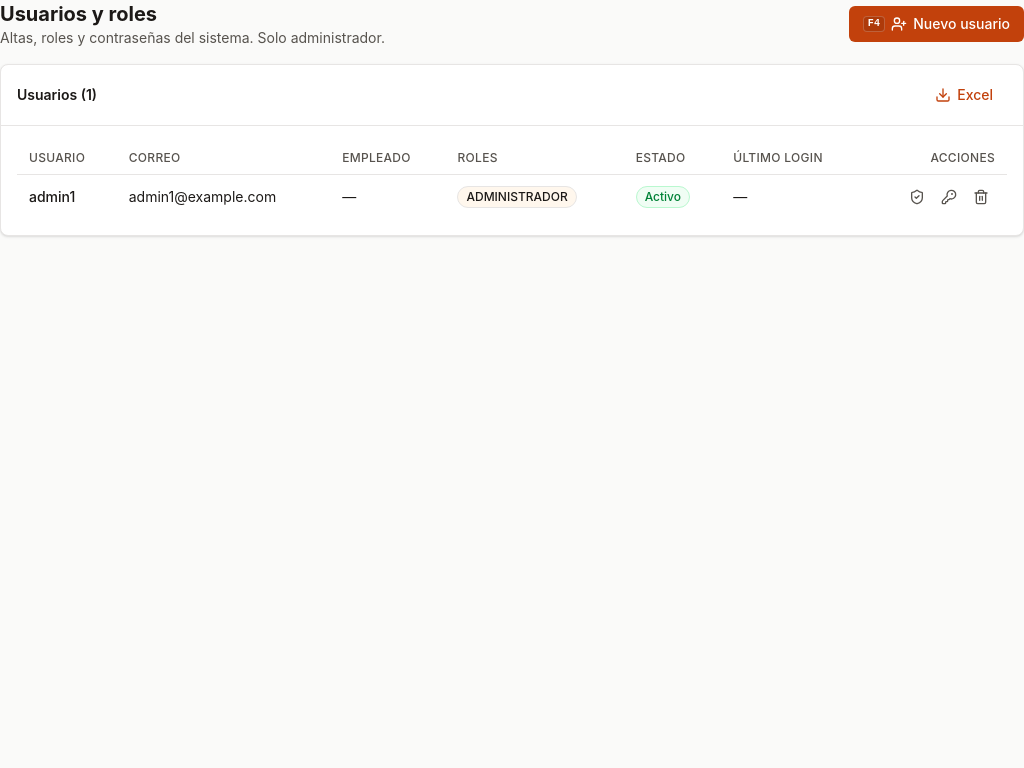
Test case: UsuariosPage (profundización) › valida el mínimo de 8 caracteres al restablecer
expect the text "admin1" is shown: met, box [29,188,75,205]
Step 1. Click the button named "Restablecer contraseña de admin1" → (949, 197), box [935,183,963,211]
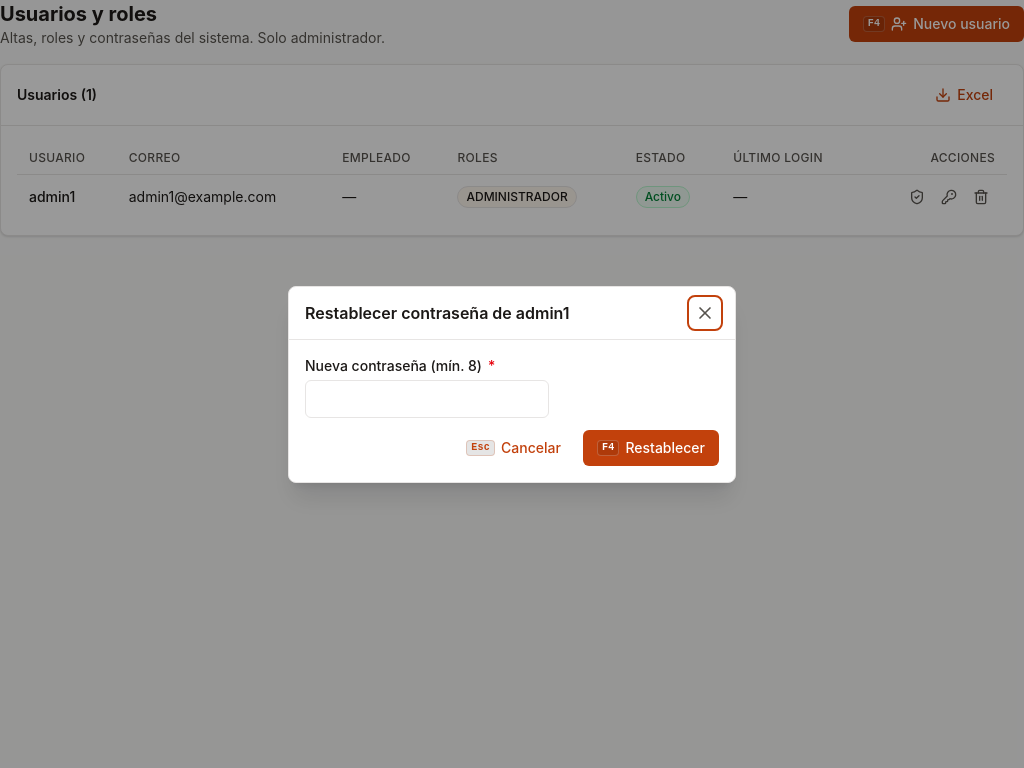
Step 2. Type "corta" into the password field labelled "Nueva contraseña (mín. 8) *" → (427, 398), box [305,380,549,418]
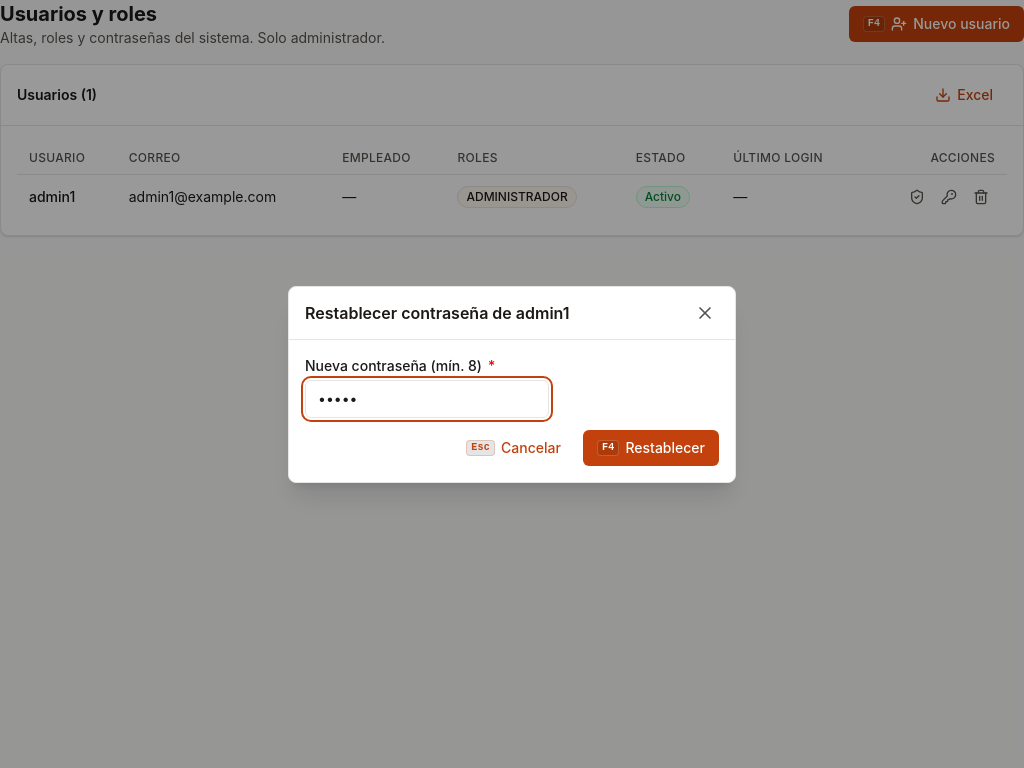
Step 3. Click the button "F4 Restablecer" → (651, 448), box [583,430,719,466]
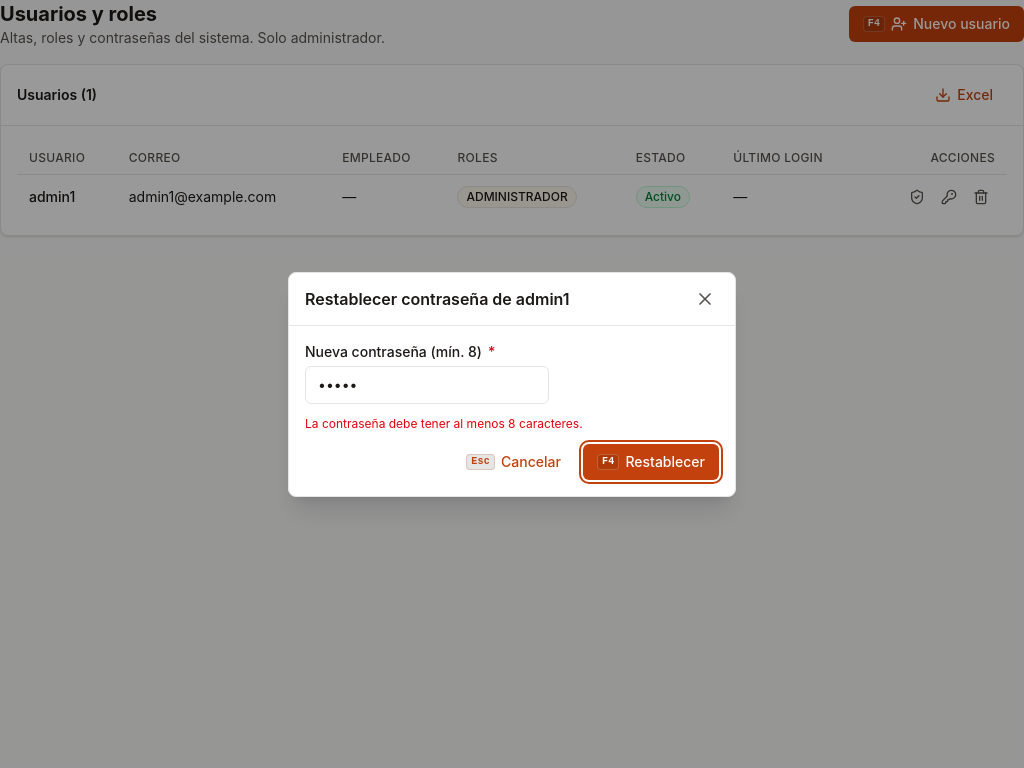
expect the text "La contraseña debe tener al menos 8 caracteres." is shown: met, box [305,416,583,430]
